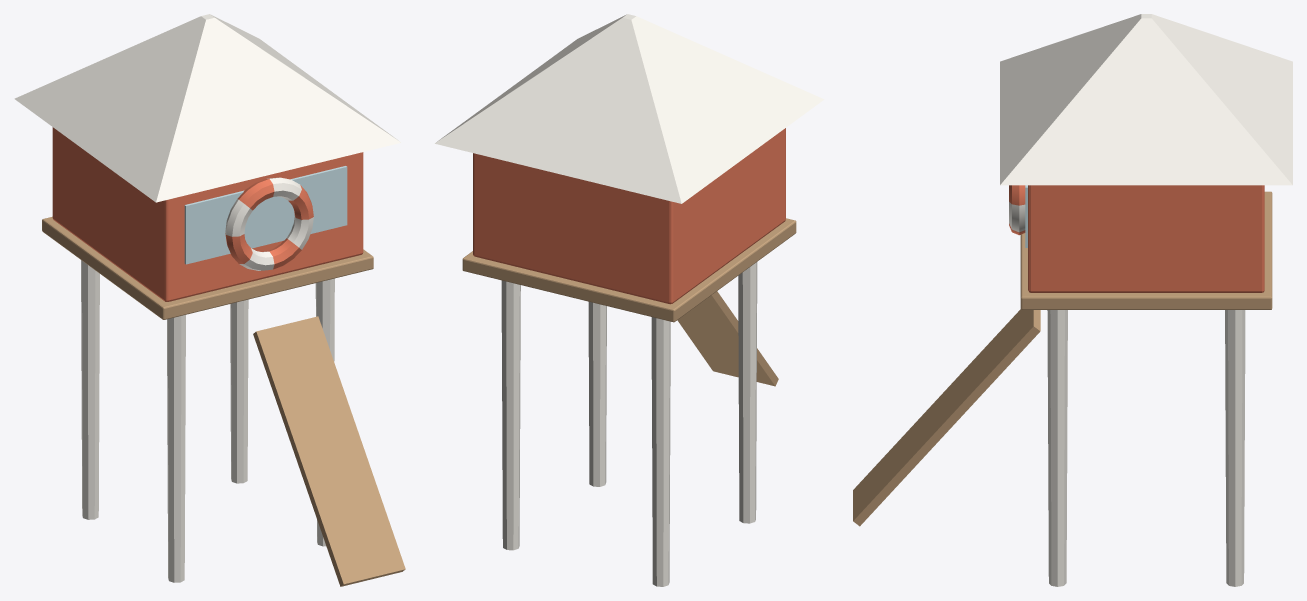
The model's file is b_lifeguard.gltf.
3 views of the same model, side by side, from view 1: azimuth 30°, elevation 25°; view 2: azimuth 150°, elevation 25°; view 3: azimuth 270°, elevation 25° (orthographic). The views are drawn at different scales.
Visible parts, largest first — view 1: b_lifeguard; view 2: b_lifeguard; view 3: b_lifeguard.
Boxes of the visible parts, x1=… form: b_lifeguard: x1=14, y1=14, x2=405, y2=586; b_lifeguard: x1=435, y1=14, x2=824, y2=586; b_lifeguard: x1=853, y1=14, x2=1292, y2=586.
Bounding box in the file's own units: 1.98 × 3.95 × 2.97.
Materials: 1 (1 with a texture image).
